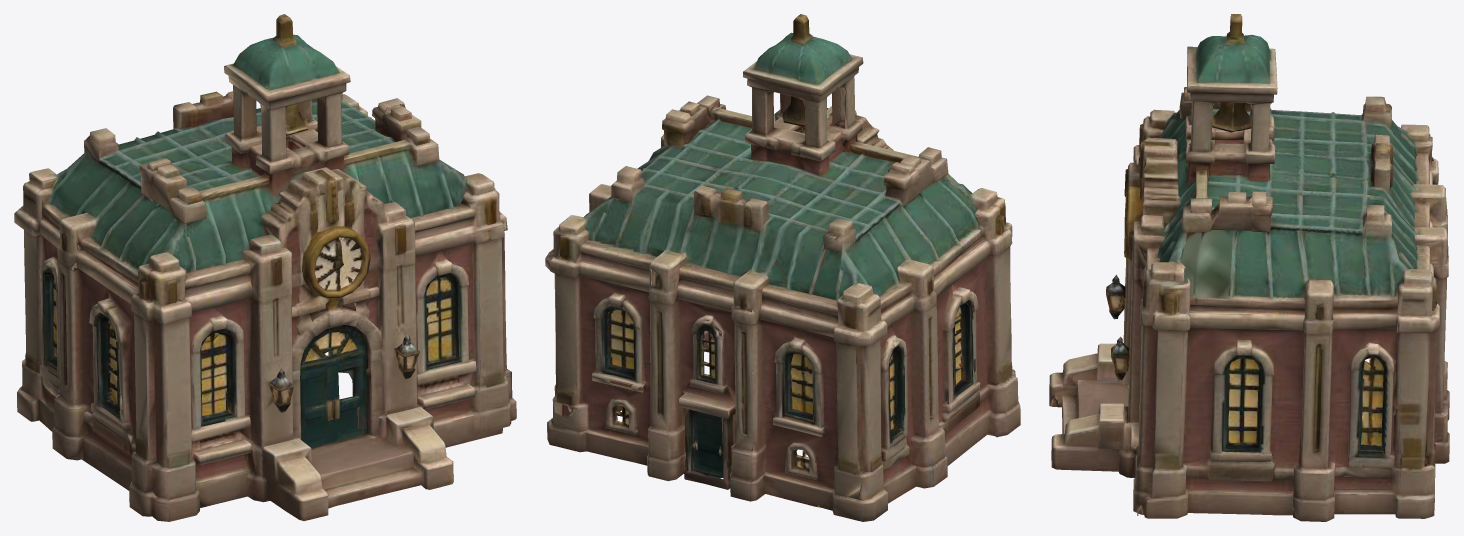
3 renders of one model, left to right at view 1: azimuth 30°, elevation 25°; view 2: azimuth 150°, elevation 25°; view 3: azimuth 270°, elevation 25°, orthographic. The views are drawn at different scales.
Parts seen in each view (by area): view 1: expansion__civic_hall__native_mobile; view 2: expansion__civic_hall__native_mobile; view 3: expansion__civic_hall__native_mobile.
Boxes of the visible parts, x1,y1,x2,y2 form: expansion__civic_hall__native_mobile: [14, 14, 516, 521]; expansion__civic_hall__native_mobile: [545, 14, 1020, 521]; expansion__civic_hall__native_mobile: [1049, 14, 1449, 521].
Bounding box in the file's own units: 0.9241 × 1 × 0.8604.
Materials: 1 (1 with a texture image).
